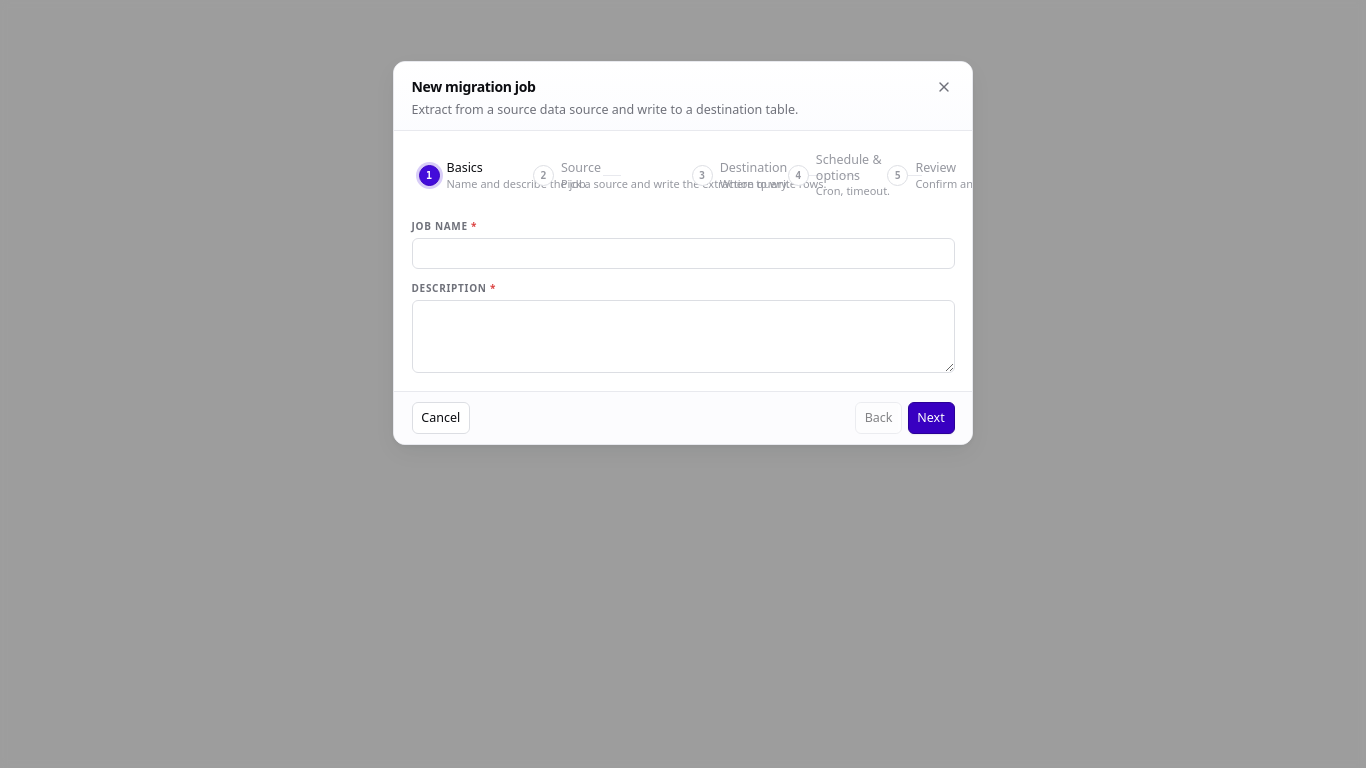
Test case: CreateMigrationJobDialog (multi-step) › blocks advancing past Source step when SQL is empty
Step 1. Type "X" into the field labelled "Job name *" → (683, 254), box [412, 238, 954, 269]
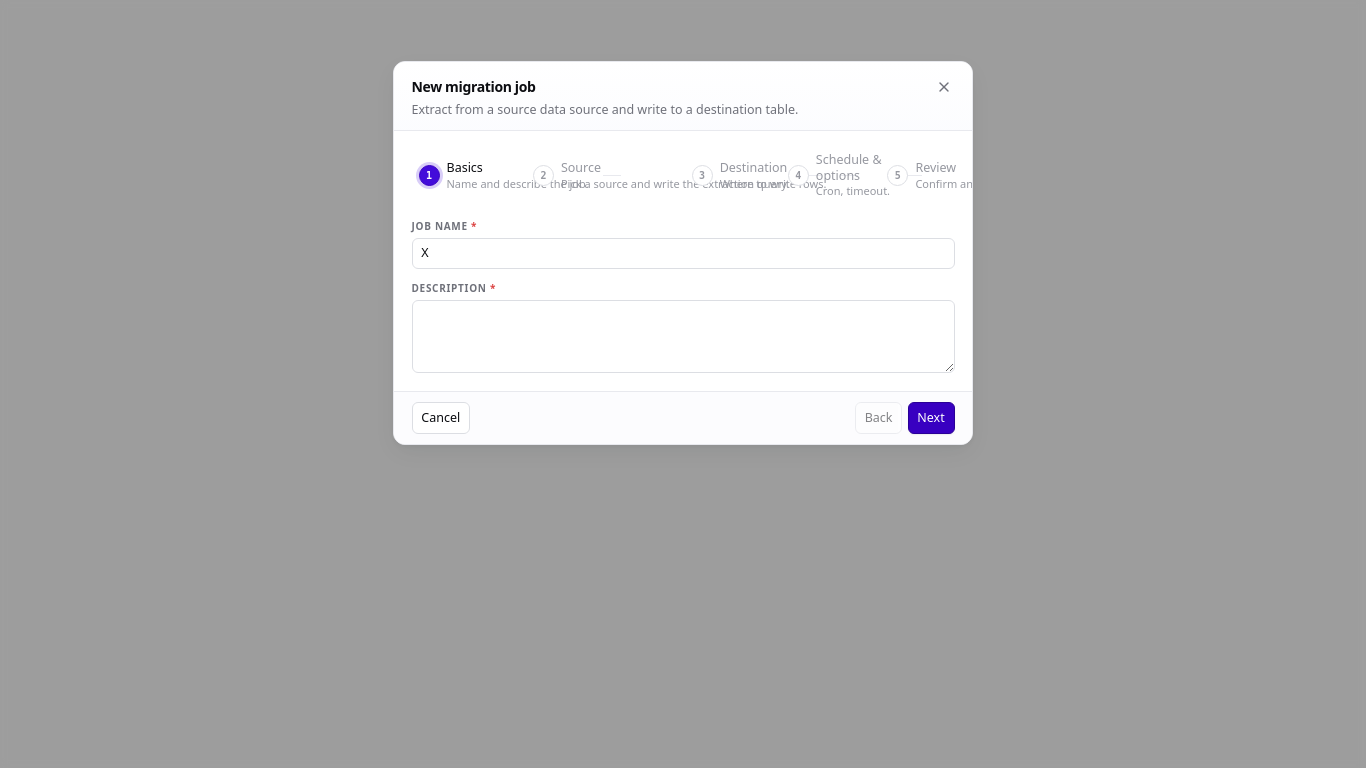
Step 2. Type "desc" into the text box labelled "Description *" → (683, 336), box [412, 300, 954, 373]
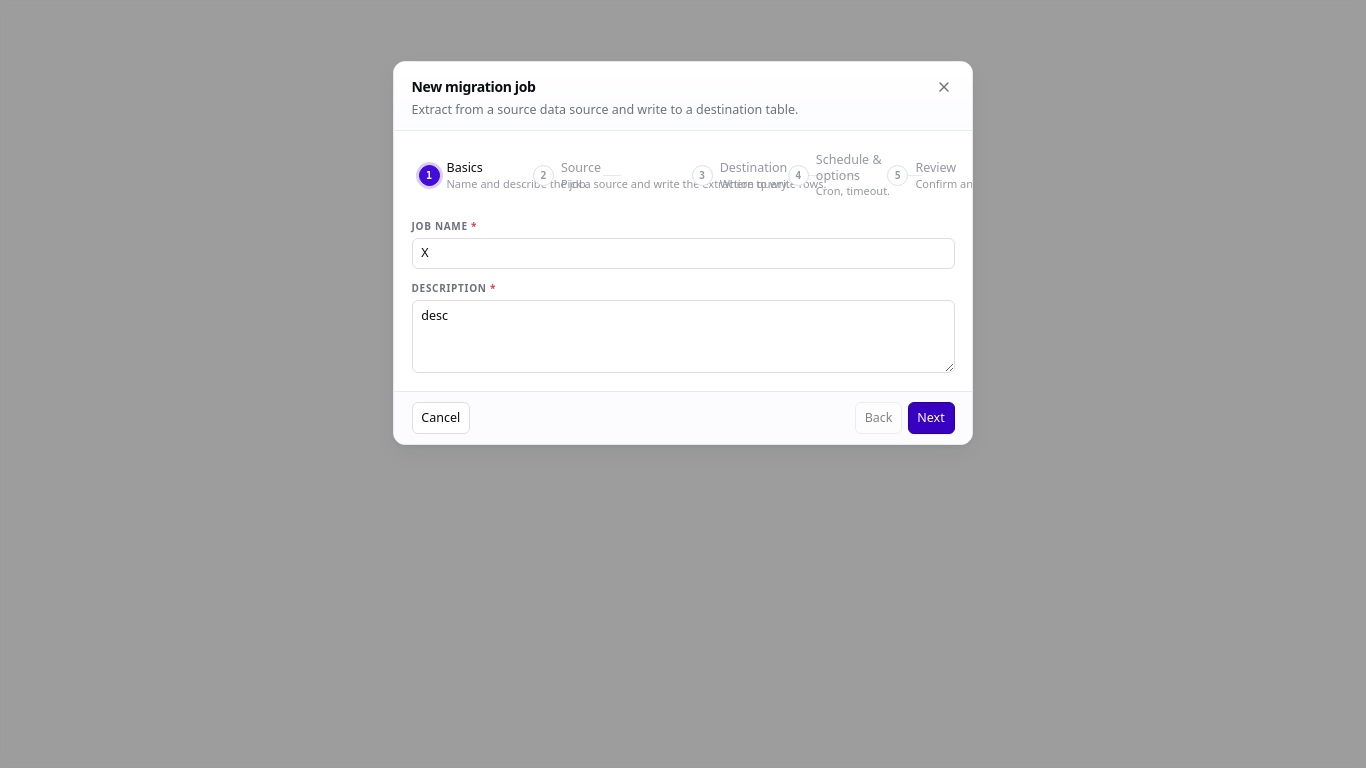
Step 3. Click the button with test id "stepper-next" → (931, 418), box [908, 402, 954, 434]
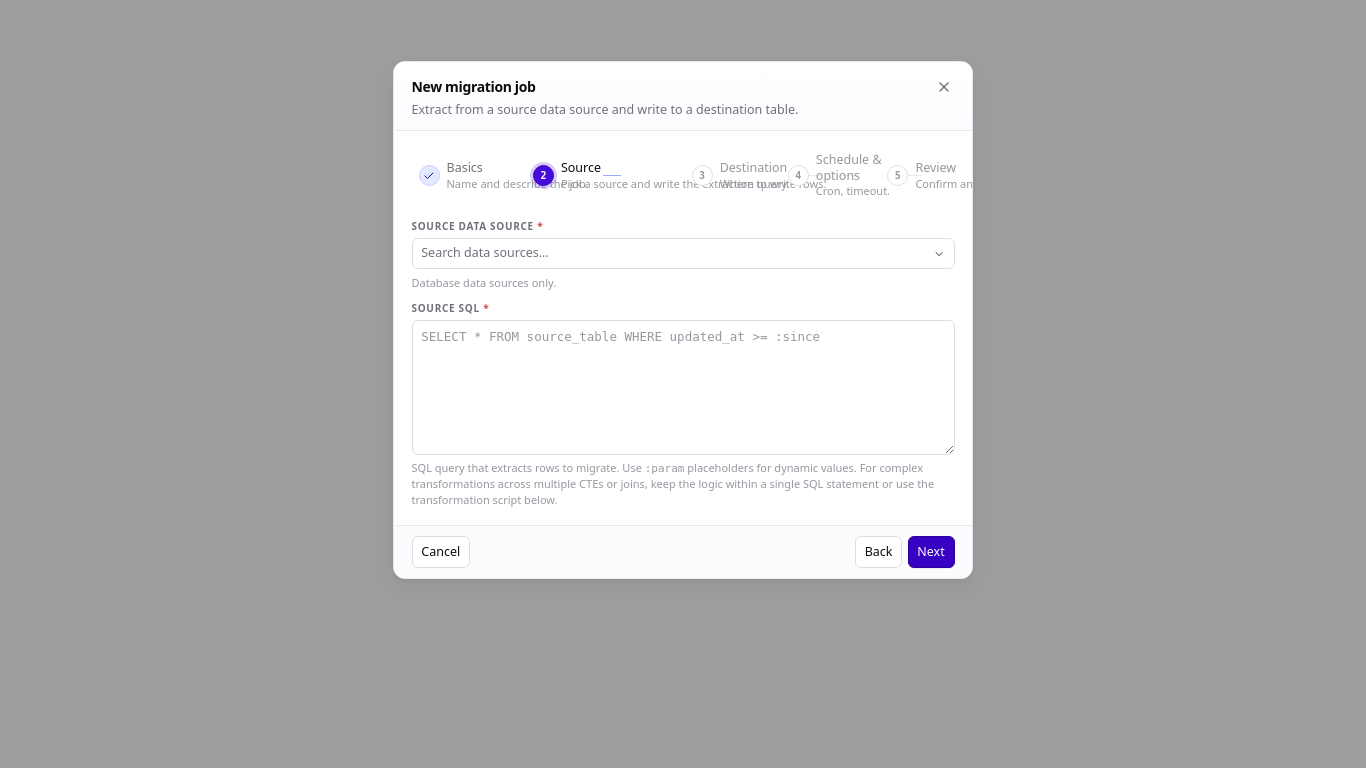
// On Source step — pick source but leave SQL empty, try to advance.
Step 4. Click the button with aria-label "Source data source" → (485, 253), box [412, 238, 954, 269]
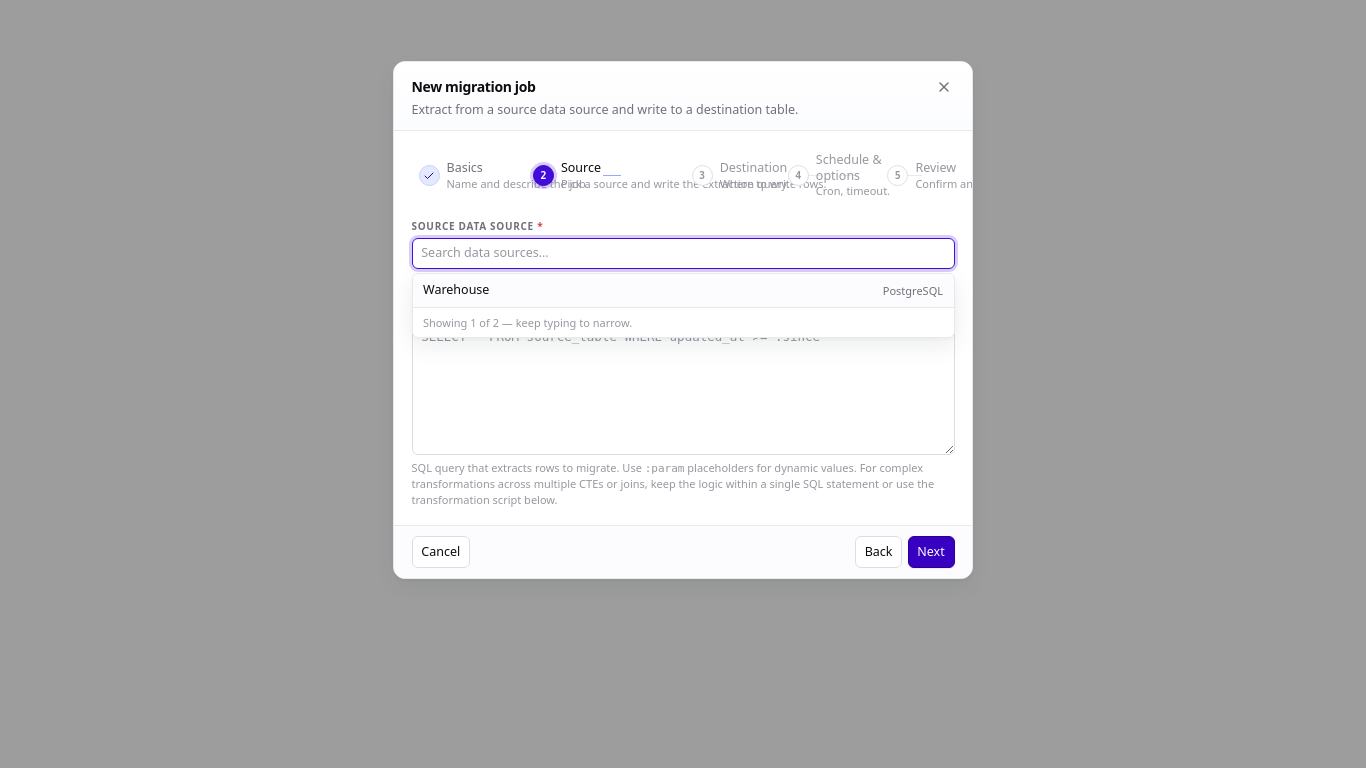
Step 5. Click the option "Warehouse PostgreSQL" → (456, 290), box [412, 274, 954, 307]
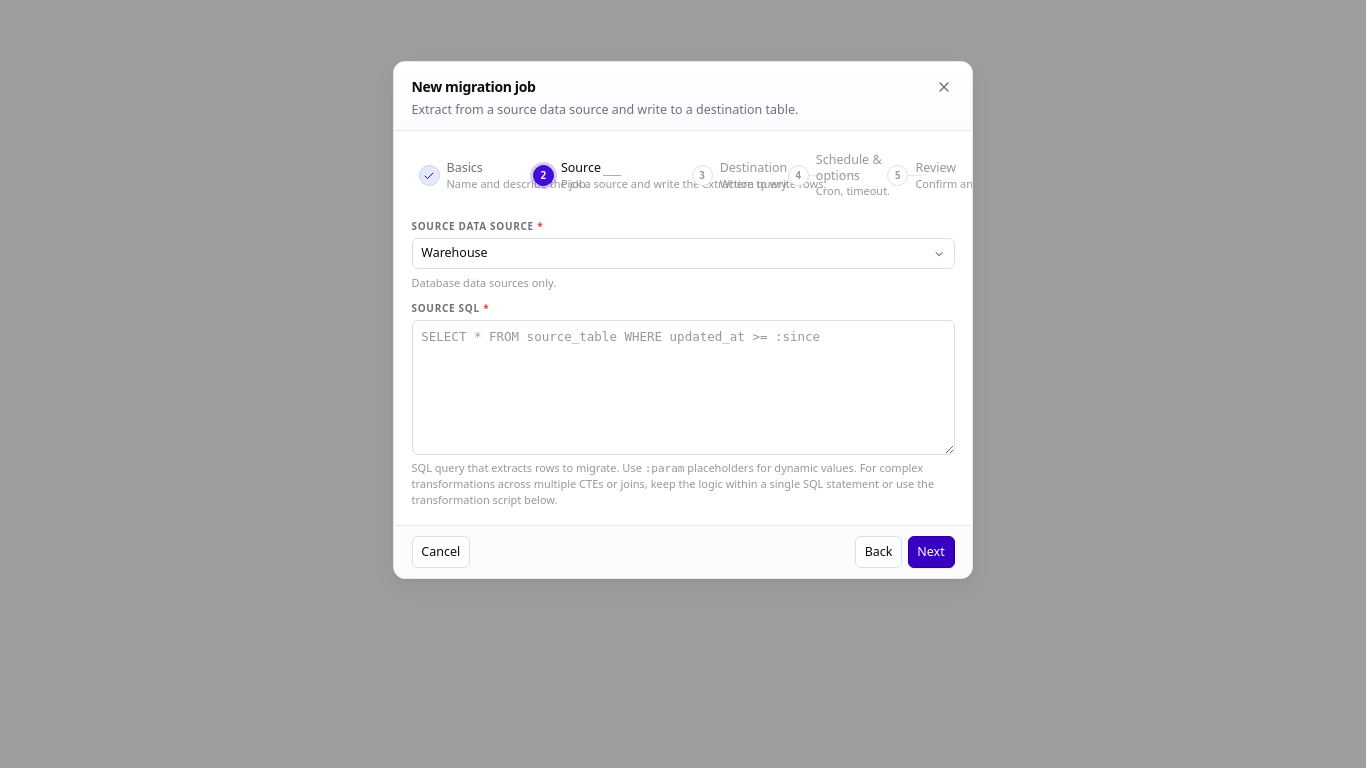
Step 6. Click the button with test id "stepper-next" → (931, 552), box [908, 536, 954, 568]
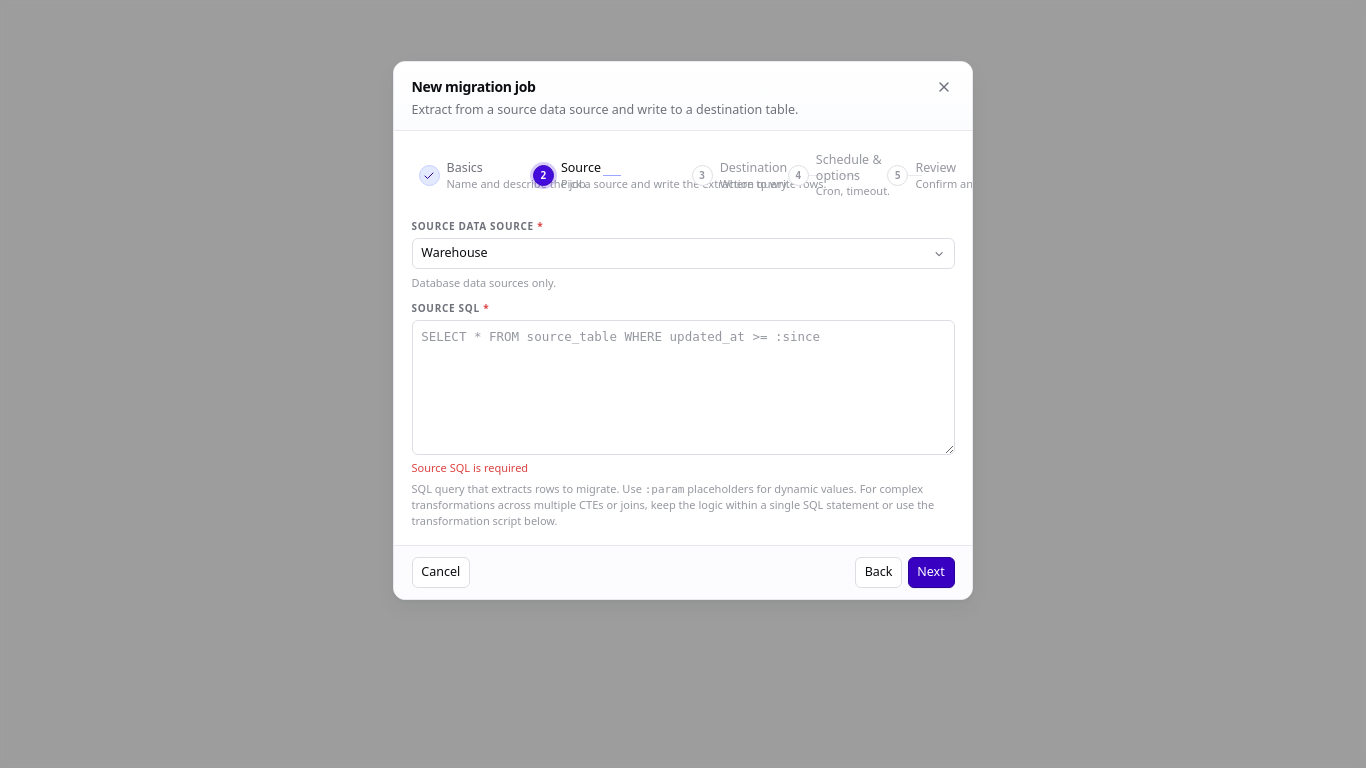
Expected: the text "Source SQL is required" is shown, [412, 460, 528, 475]
